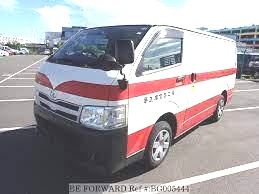van: (33, 19, 237, 167)
